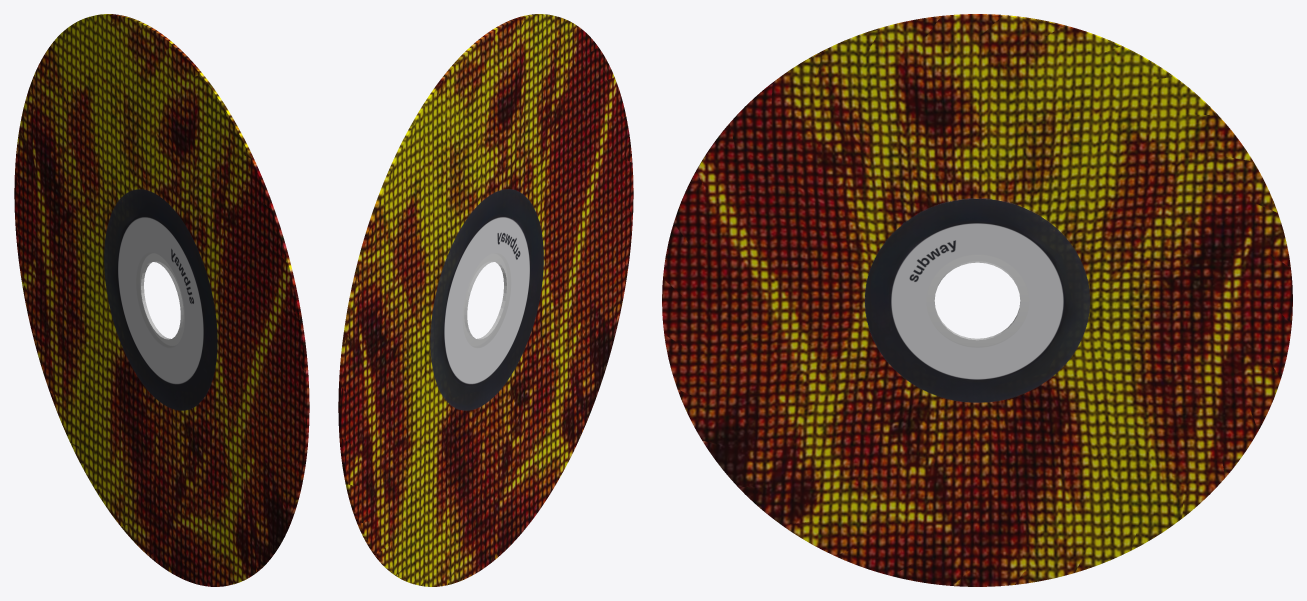
Rendered from CD_Subway.glb.
3 views of the same model, side by side, from view 1: azimuth 30°, elevation 25°; view 2: azimuth 150°, elevation 25°; view 3: azimuth 270°, elevation 25° (orthographic). The views are drawn at different scales.
Visible parts, largest first — view 1: CD; view 2: CD; view 3: CD.
Part boxes in pixels (x1,y1,x2,y2): CD: (14, 14, 309, 586); CD: (338, 14, 633, 586); CD: (662, 14, 1292, 586).
Bounding box in the file's own units: 0.0111 × 1.87 × 1.87.
Materials: 2 (2 with a texture image).
